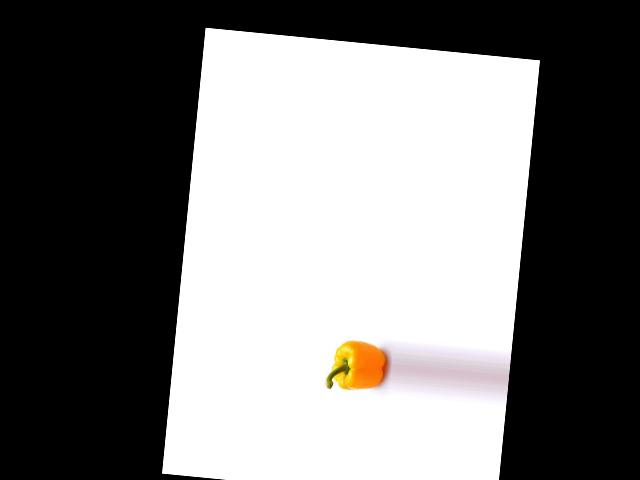bell_pepper: (327, 334, 389, 395)
